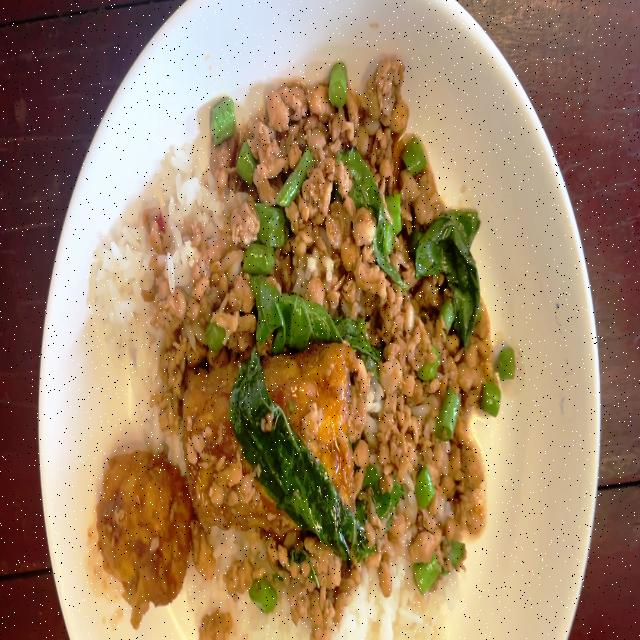fried_tofo: (191, 343, 356, 527), (100, 457, 183, 591)
minced_pork: (222, 76, 425, 349), (359, 212, 482, 570), (232, 138, 310, 283), (157, 226, 240, 348), (257, 93, 338, 198), (188, 417, 253, 505), (152, 334, 198, 434), (363, 56, 406, 124), (250, 117, 290, 182), (150, 275, 189, 331), (209, 130, 240, 198), (190, 519, 218, 581), (223, 551, 256, 600), (229, 202, 260, 249), (276, 83, 309, 124), (142, 208, 170, 255), (198, 608, 234, 640), (266, 90, 291, 132), (306, 83, 333, 119), (300, 112, 324, 146), (344, 84, 361, 128), (399, 168, 420, 202), (377, 155, 394, 186), (266, 539, 280, 569), (341, 118, 355, 142), (330, 114, 342, 142), (277, 542, 289, 570), (260, 411, 274, 433)
rice: (162, 150, 224, 258), (94, 226, 156, 330), (125, 331, 169, 447), (225, 579, 296, 636), (205, 522, 250, 560), (175, 172, 203, 208), (107, 278, 126, 316), (170, 145, 194, 175), (102, 248, 123, 273), (122, 225, 142, 249), (173, 260, 190, 286), (168, 194, 178, 224), (180, 240, 189, 270), (206, 170, 218, 192)
stir_fried_basil: (115, 49, 490, 632)
